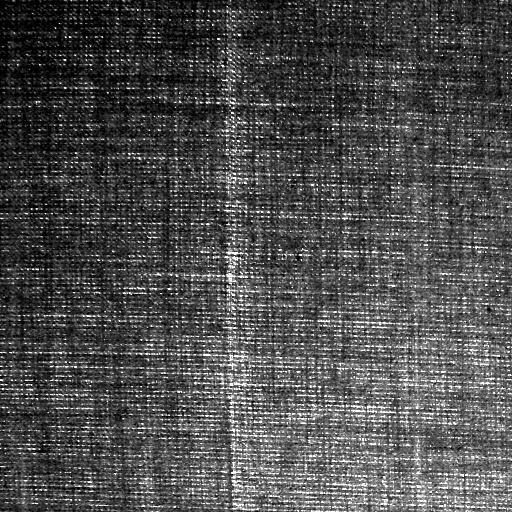fabric_missing_pick: (211, 9, 256, 501)
